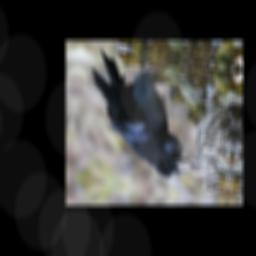Crow: (81, 45, 202, 182)
